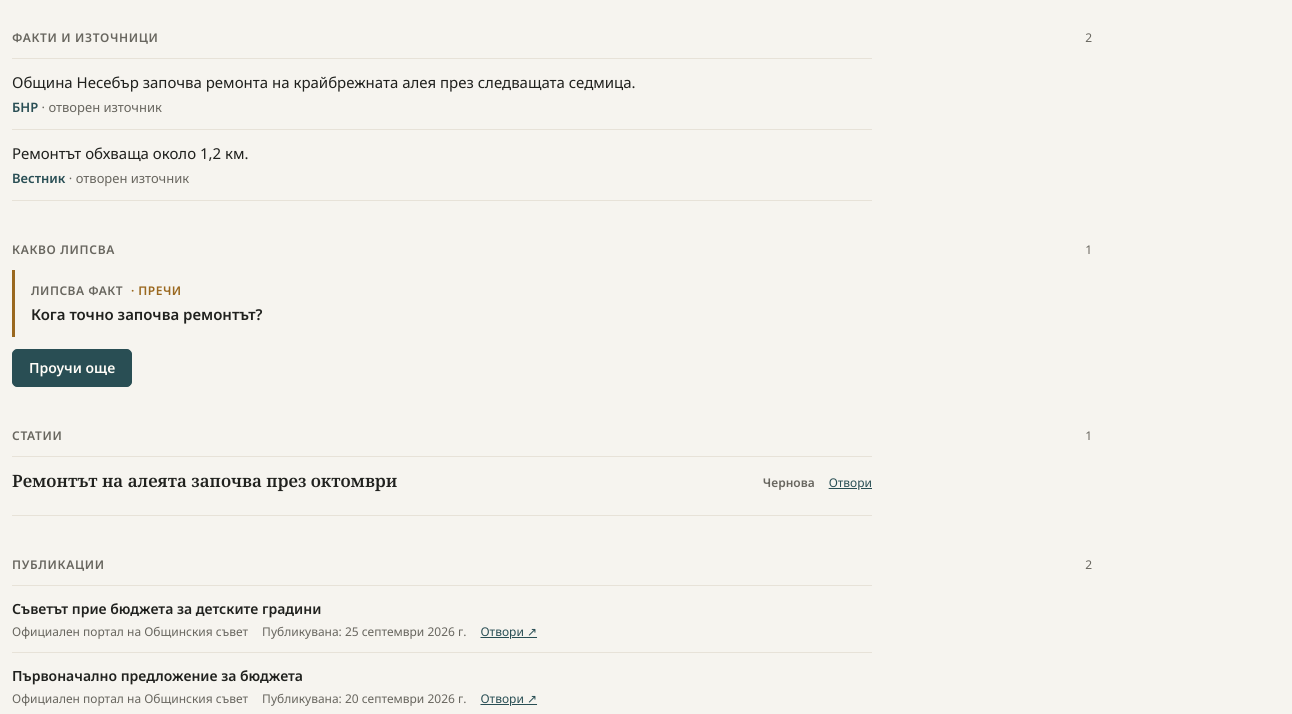
Test: V1.2-G2 — research interaction › keeps the confirmed facts and gaps when a round fails
(page scrolled)
Click the button "Проучи още".
click(72, 368)  # box left=12, top=349, right=132, bottom=387
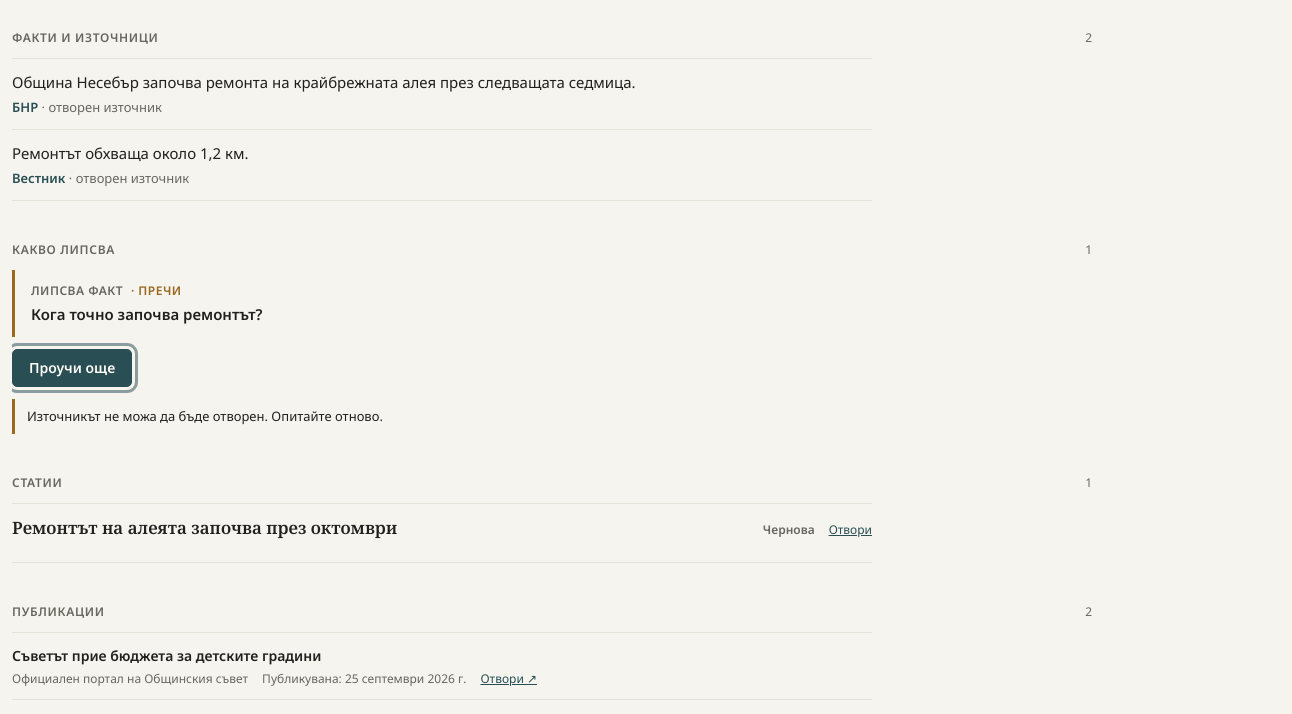
Expected: the text "Община Несебър започва ремонта на крайбрежната алея през следващата седмица." is shown, left=12, top=72, right=636, bottom=92
Expected: the message reads "Източникът не можа да бъде отворен. Опитайте отново.", left=27, top=407, right=383, bottom=425
